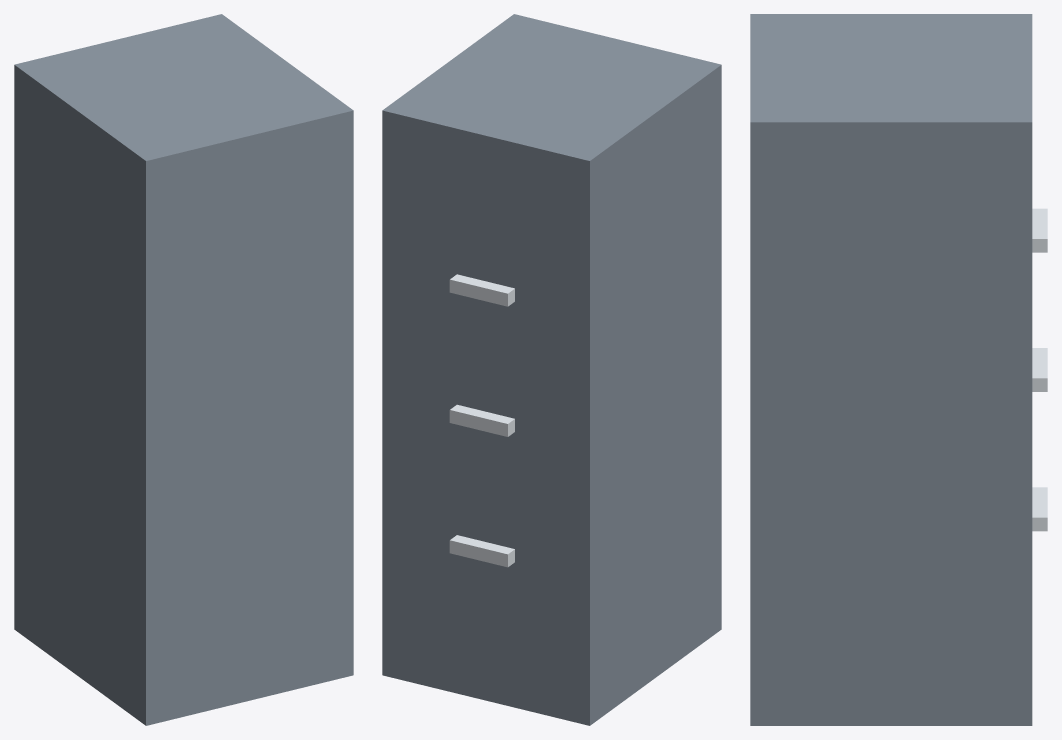
Rendered from cabinet.glb.
The picture shows the model from 3 angles, left to right: view 1: azimuth 30°, elevation 25°; view 2: azimuth 150°, elevation 25°; view 3: azimuth 270°, elevation 25°; orthographic projection. The views are drawn at different scales.
Size of the model in its own units: 0.5 by 1.3 by 0.58.
